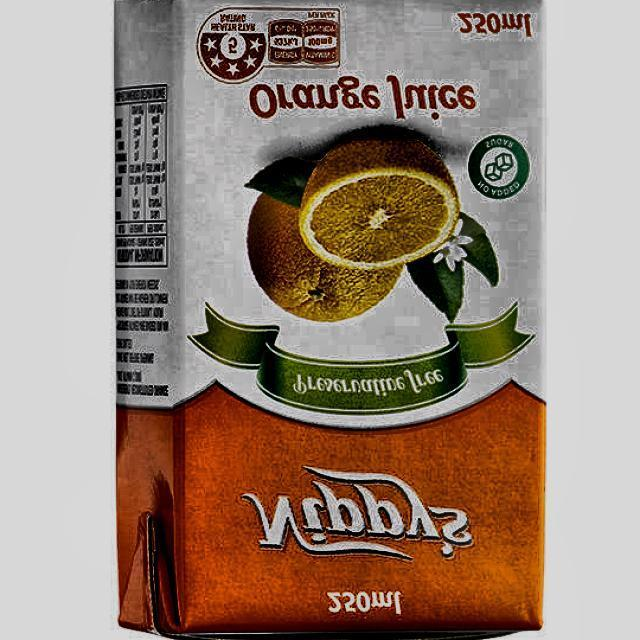cardboard: (113, 0, 546, 640)
